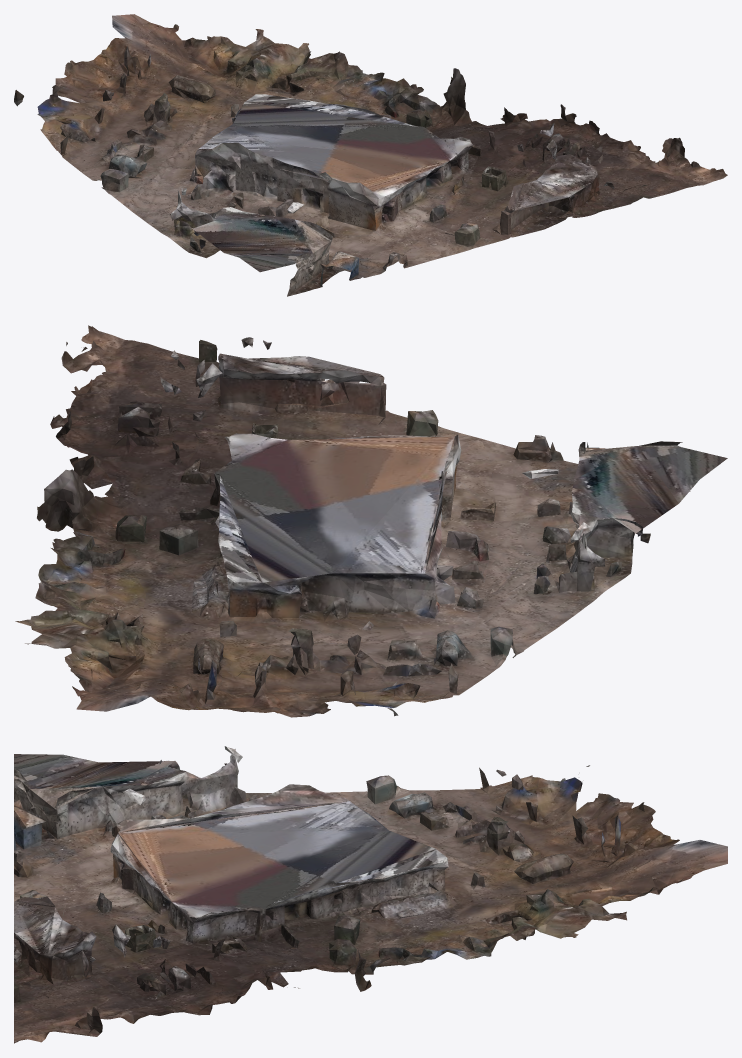
3 renders of one model, top to bottom at view 1: azimuth 30°, elevation 25°; view 2: azimuth 150°, elevation 25°; view 3: azimuth 270°, elevation 25°, orthographic. The views are drawn at different scales.
Bounding box in the file's own units: 74.61 × 8.68 × 83.56.
3 materials, 3 textured.
